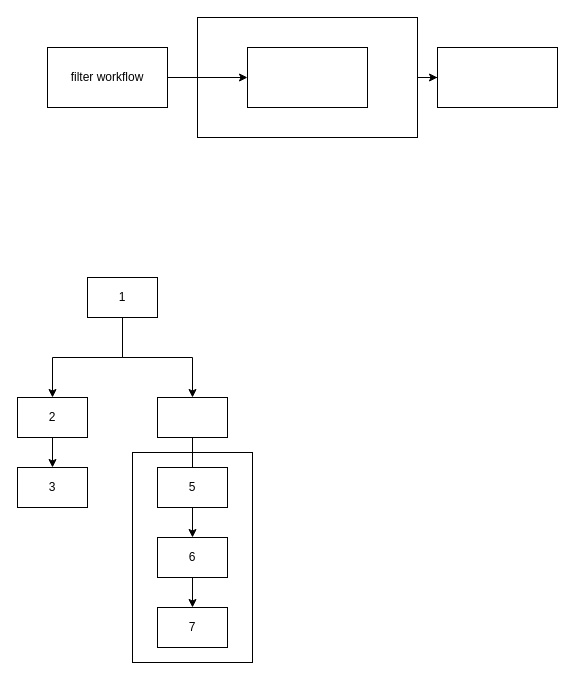
This 575x680 diagram has some shape labels left out. The centre of each missing label's shape, as x and y in pixels:
4 (loop): the point at 192,417
dependent workflows: the point at 307,77
return (1,1,1,1): the point at 497,77
